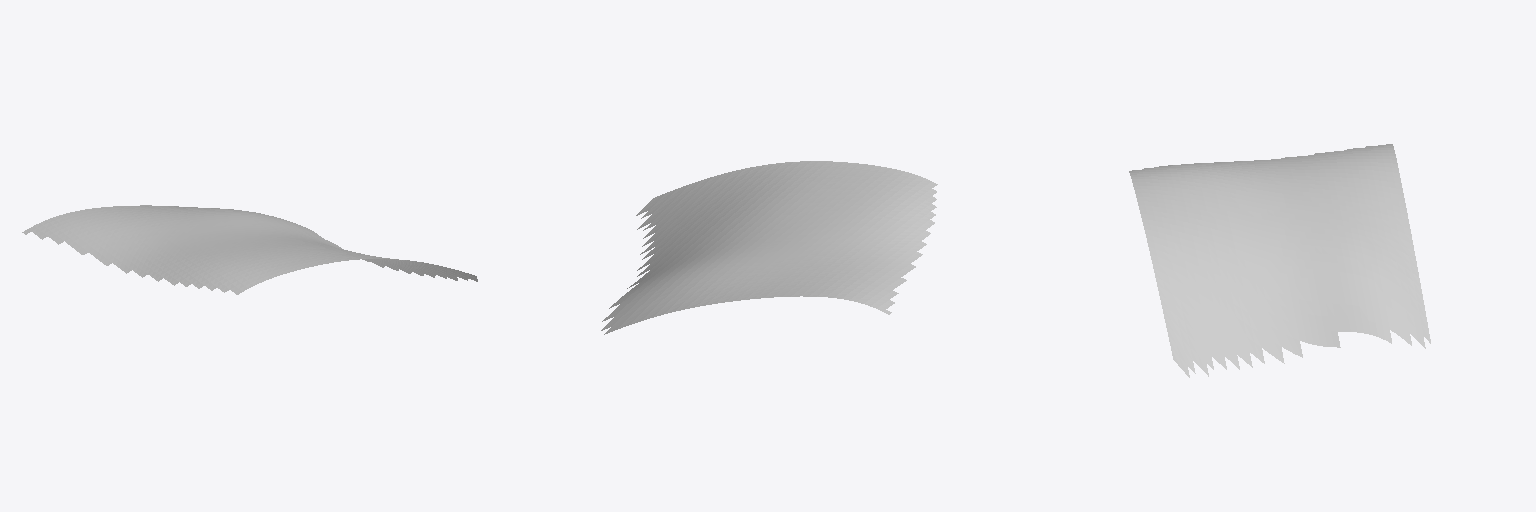
The model's file is slab_2_simplified.obj.
The picture shows the model from 3 angles: view 1: azimuth 30°, elevation 25°; view 2: azimuth 150°, elevation 25°; view 3: azimuth 270°, elevation 25°; orthographic projection.
Size of the model in its own units: 3.39 by 0.8435 by 2.51.